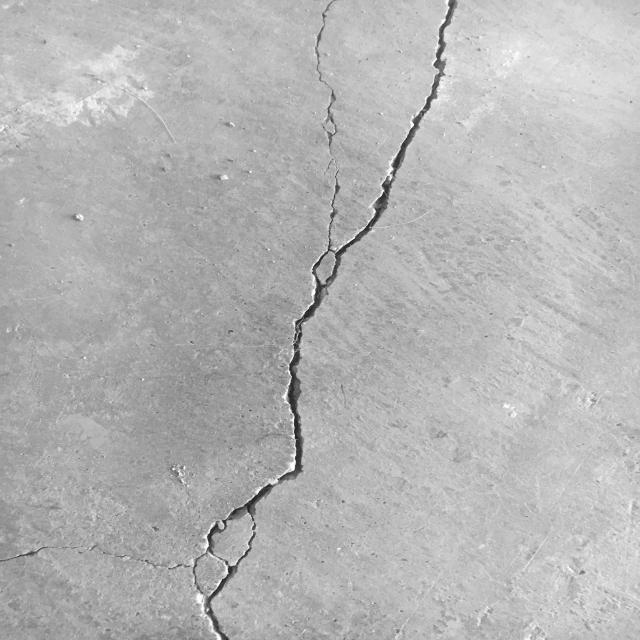SurfaceCrack: (84, 1, 495, 640)
